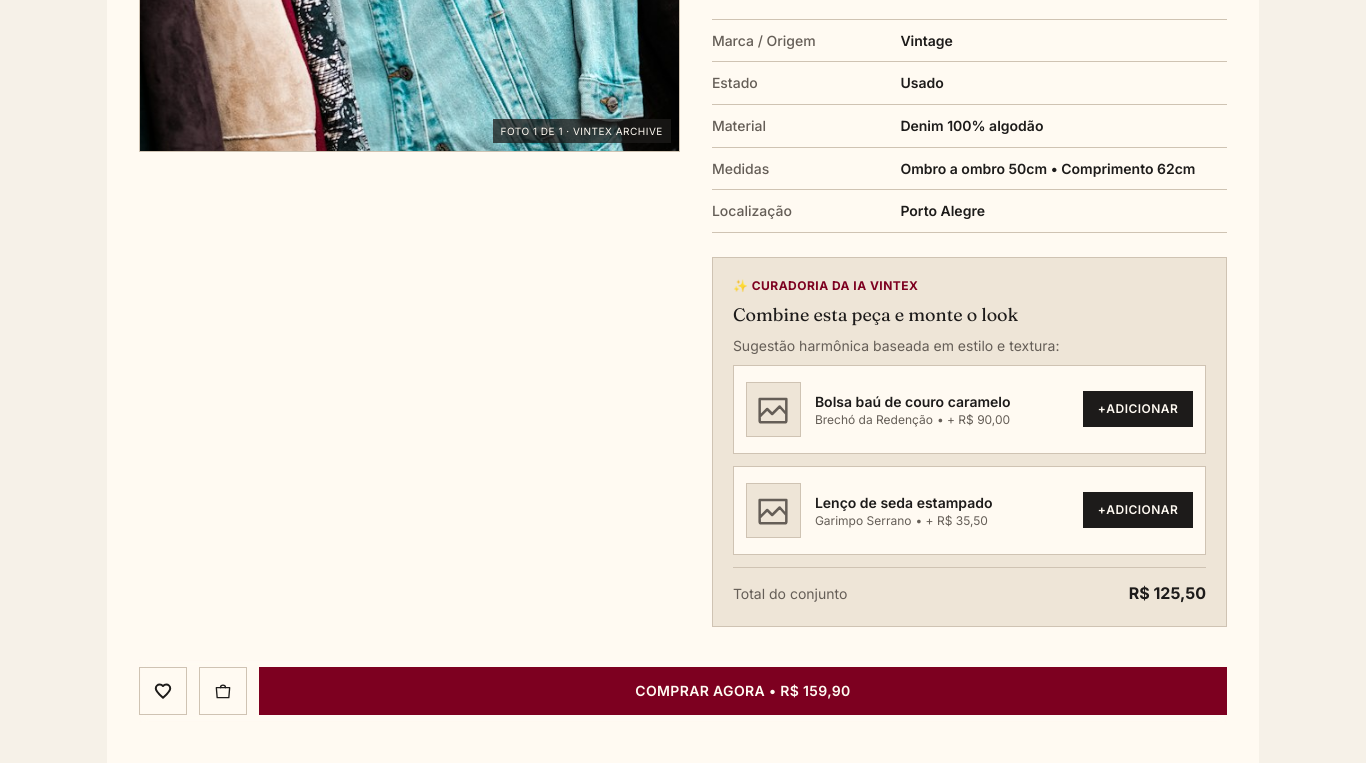
it: <ProductDetail /> › Combine e monte o look (FE-US030-1, #412) › logado: "+ Adicionar" põe a peça sugerida na sacola e mostra o toast
(page scrolled)
What coordinates should you click on to do the following:
click the button named "Adicionar Bolsa baú de couro caramelo à sacola"
I would click on:
 (1138, 410)
Its box is [1083,392,1193,428].
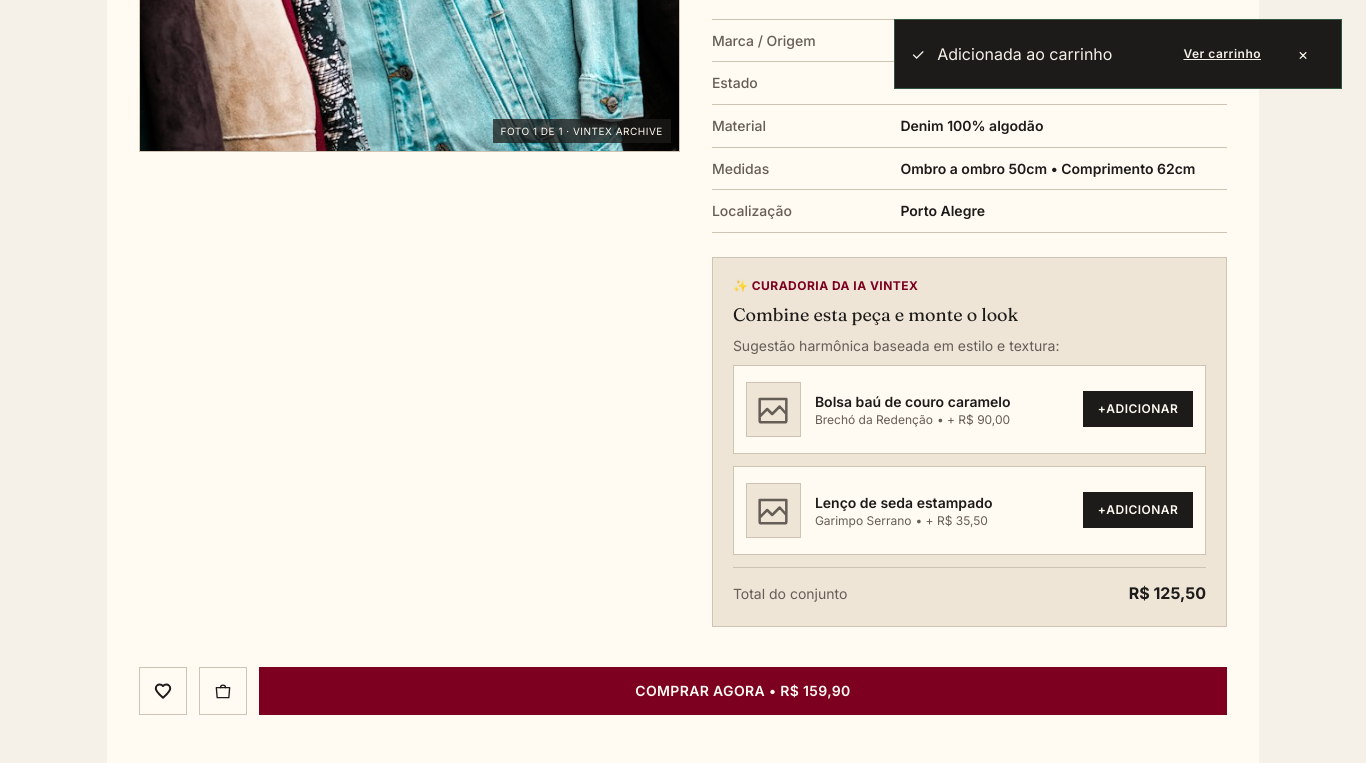
Expected: the text "Adicionada ao carrinho" is shown, [937,44,1112,64]
Expected: the button "Ver carrinho" is shown, [1176,32,1269,76]
